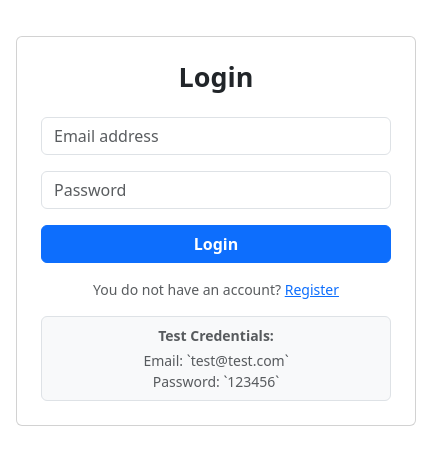
Test: Login Component › displays error message on failed login
This screenshot has width=433, height=463.
Step 1. Type "wrong@test.com" into the field with placeholder "Email address" → {"x": 216, "y": 136}, box [41, 117, 391, 155]
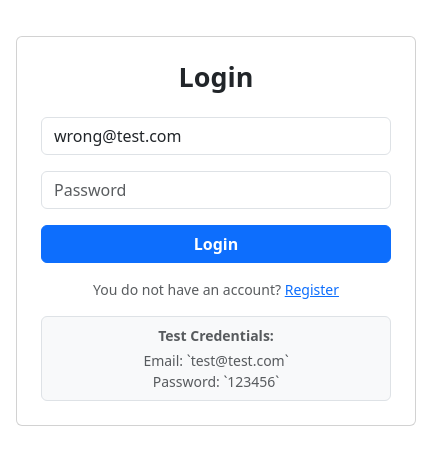
Step 2. Type "wrongpass" into the password field with placeholder "Password" → {"x": 216, "y": 190}, box [41, 171, 391, 209]
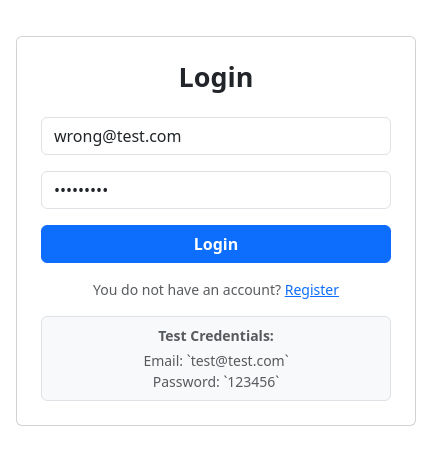
Step 3. Click the button "Login" → {"x": 216, "y": 244}, box [41, 225, 391, 263]
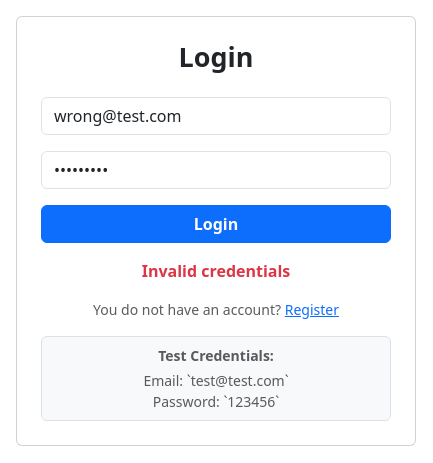
Expected: the text "Invalid credentials" is shown, [142, 260, 290, 282]
